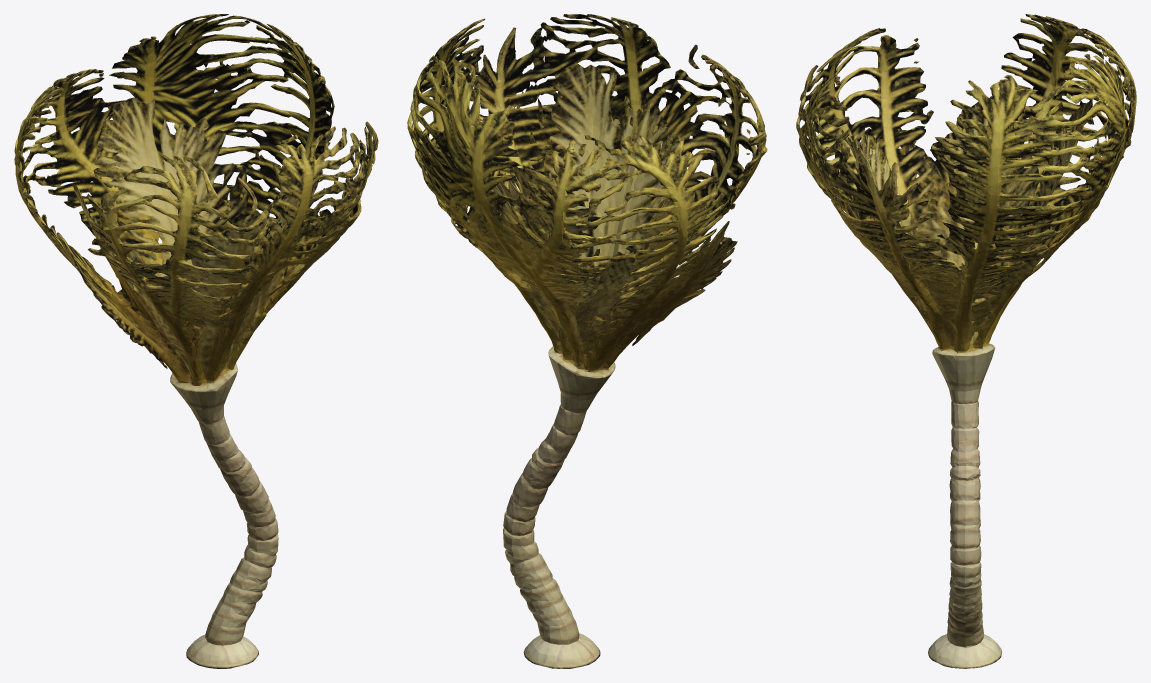
The picture shows the model from 3 angles, left to right: view 1: azimuth 30°, elevation 25°; view 2: azimuth 150°, elevation 25°; view 3: azimuth 270°, elevation 25°; orthographic projection. The views are drawn at different scales.
Parts seen in each view (by area): view 1: world; view 2: world; view 3: world.
Part boxes in pixels (left/top/right/bottom): world: left=14, top=14, right=378, bottom=668; world: left=407, top=14, right=767, bottom=668; world: left=796, top=14, right=1136, bottom=668.
Bounding box in the file's own units: 0.5061 × 0.9645 × 0.4849.
1 material, 1 textured.
